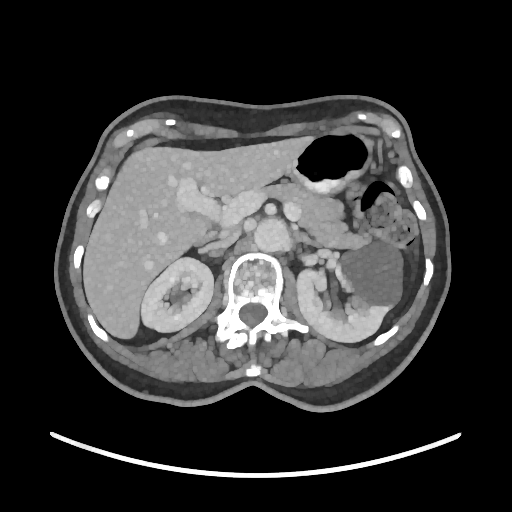Lesion: (336, 239, 404, 311)
